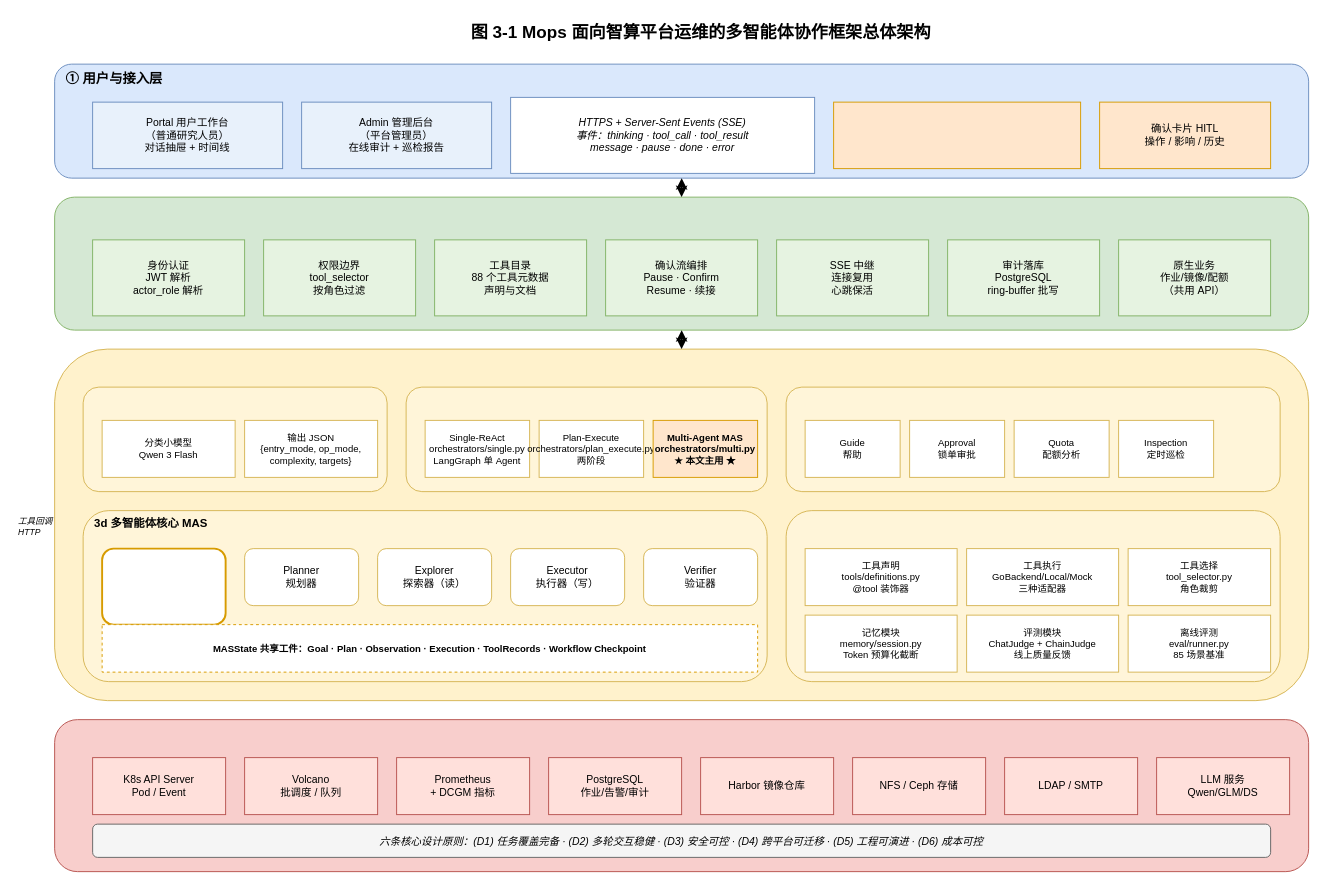
This 1325x888 diagram has some shape labels left out. The box of each missing label's shape, as (x1, y1, x2, y2) in pixels:
3a 意图路由 IntentRouter: (82, 386, 387, 492)
3b 编排器选择: (405, 386, 767, 492)
3c 任务型 Agent: (785, 386, 1280, 492)
3e 工具适配 / 记忆 / 评测: (785, 510, 1280, 682)
Coordinator 协调器 （状态机驱动）: (101, 547, 226, 625)
② 业务网关层（Crater Backend · Go + Gin + GORM）: (54, 196, 1309, 330)
③ Agent Runtime（Python · FastAPI · LangChain/LangGraph）: (54, 348, 1309, 701)
④ 智算平台与基础设施: (54, 719, 1309, 872)
页面上下文上报 page_context = {route, job_name, node_name, pvc_name}: (833, 101, 1081, 169)
